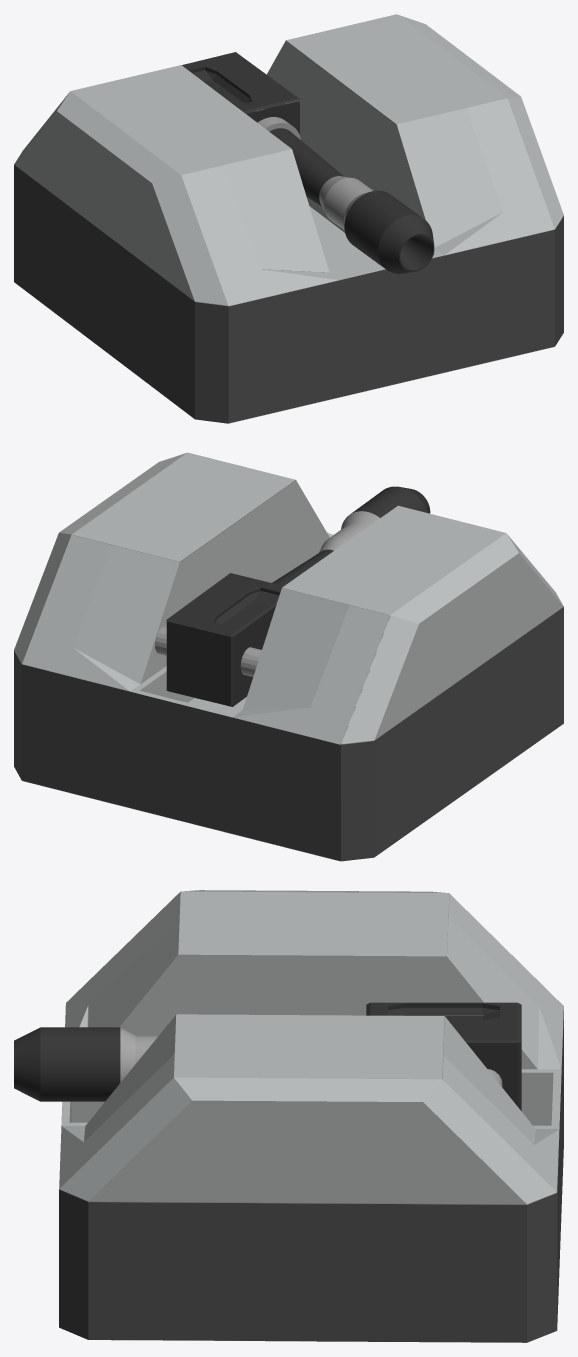
The model's file is Turret.glb.
3 views of the same model, one above another, from view 1: azimuth 30°, elevation 25°; view 2: azimuth 150°, elevation 25°; view 3: azimuth 270°, elevation 25° (orthographic). The views are drawn at different scales.
Visible parts, largest first — view 1: Base, Turret head; view 2: Base, Turret head; view 3: Base, Turret head.
Boxes of the visible parts, <box> form: Base: <box>14,14,563,423</box>; Turret head: <box>182,52,434,273</box>; Base: <box>14,452,563,861</box>; Turret head: <box>155,486,430,706</box>; Base: <box>59,890,563,1342</box>; Turret head: <box>14,1002,521,1110</box>.
Size of the model in its own units: 0.4054 by 0.2222 by 0.4417.
4 materials, 4 textured.
